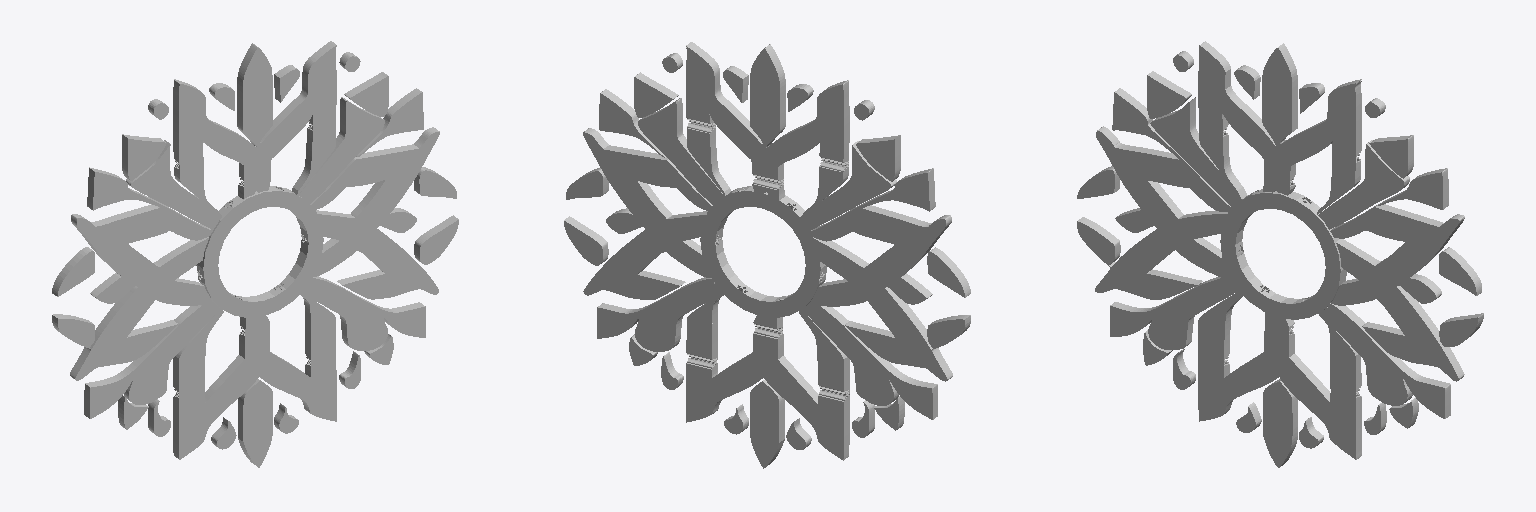
The model's file is tinker.obj.
The picture shows the model from 3 angles: view 1: azimuth 30°, elevation 25°; view 2: azimuth 150°, elevation 25°; view 3: azimuth 330°, elevation 25°; orthographic projection.
Visible parts, largest first — view 1: obj_0; view 2: obj_0; view 3: obj_0.
Boxes of the visible parts, box(x1,y1,x2,y2) form: obj_0: box(52, 41, 458, 467); obj_0: box(564, 42, 970, 468); obj_0: box(1077, 41, 1483, 467).
Bounding box in the file's own units: 200 × 200 × 6.